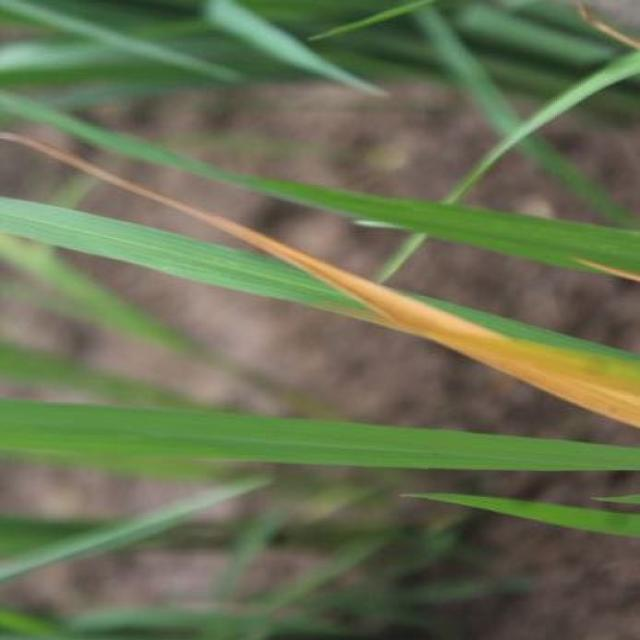Tungro: (74, 202, 622, 422)
